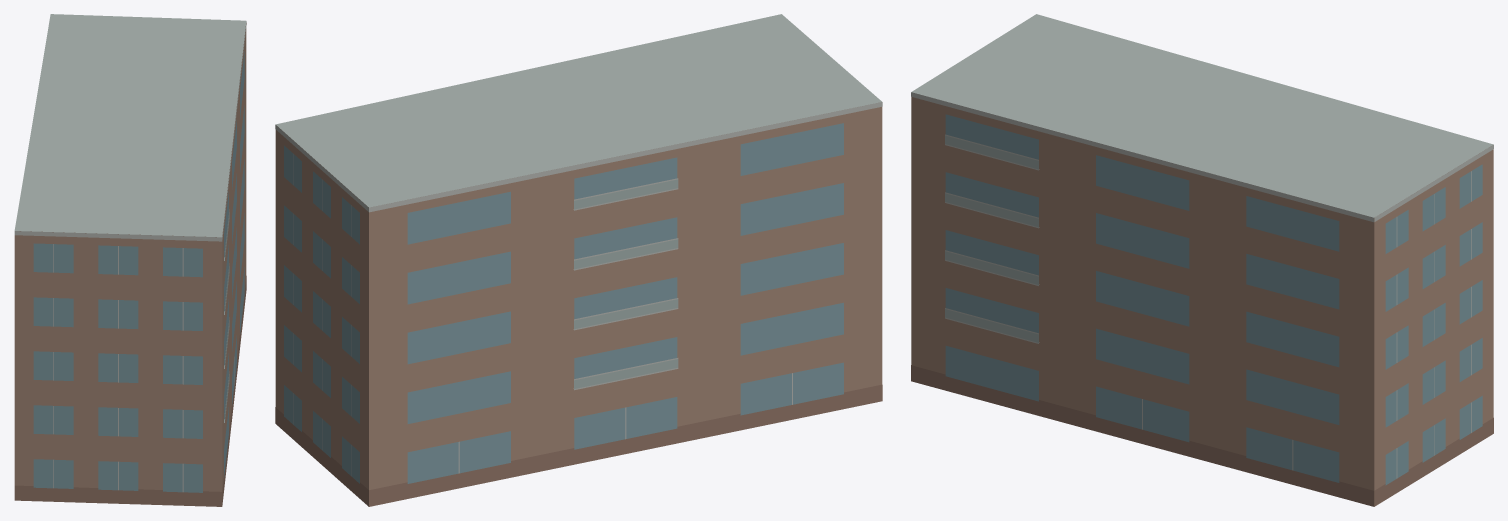
The model's file is survey-upis-32457035.glb.
The picture shows the model from 3 angles, left to right: view 1: azimuth 30°, elevation 25°; view 2: azimuth 150°, elevation 25°; view 3: azimuth 270°, elevation 25°; orthographic projection. The views are drawn at different scales.
Parts seen in each view (by area): view 1: survey-upis-32457035.tmp; view 2: survey-upis-32457035.tmp; view 3: survey-upis-32457035.tmp.
Part boxes in pixels (box(x1,y1,x2,y2)): survey-upis-32457035.tmp: box(14, 14, 246, 506); survey-upis-32457035.tmp: box(275, 14, 882, 506); survey-upis-32457035.tmp: box(911, 14, 1493, 506).
Size of the model in its own units: 23.13 by 15.3 by 27.95.
